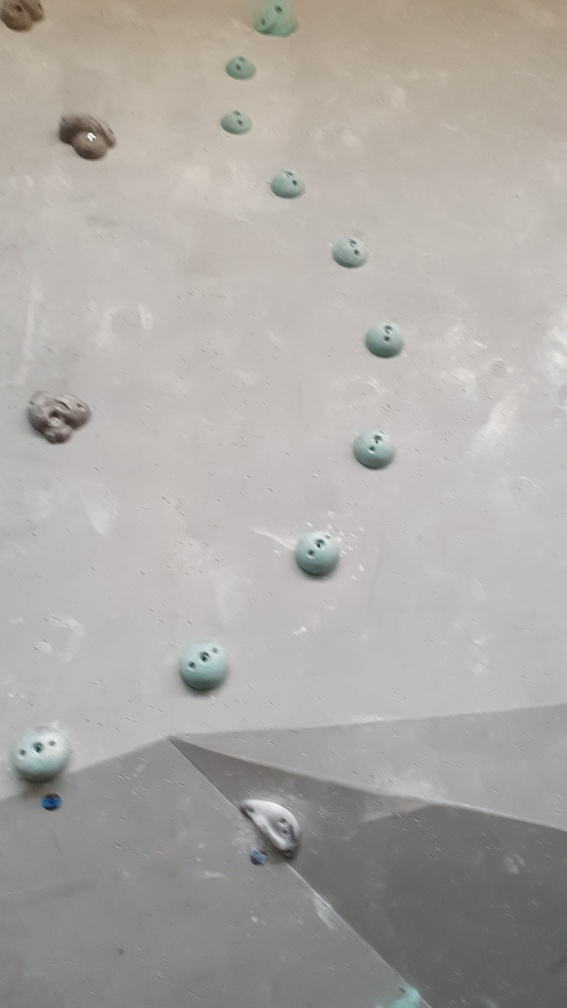Hand Start: (247, 844, 272, 873), (39, 790, 65, 817)
Jug: (26, 384, 95, 447), (52, 104, 124, 164)
Sloper: (12, 720, 74, 787), (178, 636, 234, 695), (295, 526, 345, 579), (350, 424, 397, 475), (329, 227, 375, 272), (366, 318, 405, 366), (270, 170, 308, 200), (219, 109, 251, 135), (224, 56, 254, 78)
